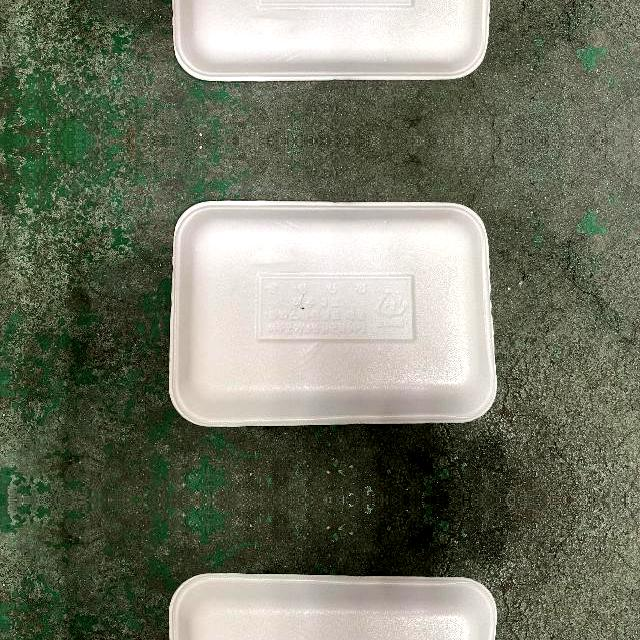Styrofoam: (166, 197, 498, 427), (169, 199, 497, 426), (165, 0, 498, 83), (172, 0, 490, 81), (165, 571, 498, 640), (169, 572, 497, 640)
